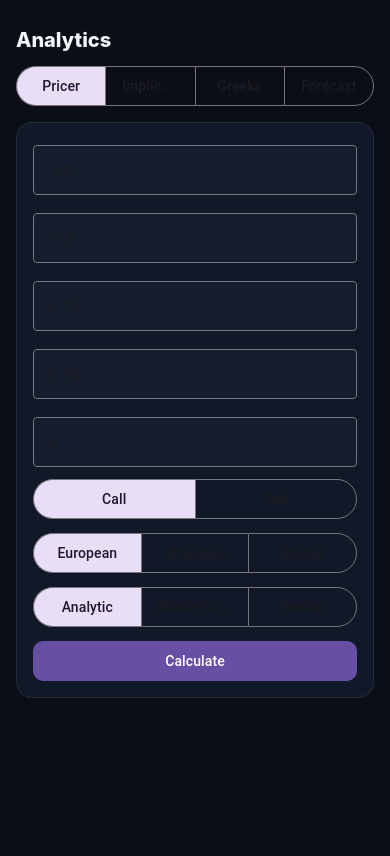
Volatility forecast › carries the forecast volatility into the pricer
Step 1. Click the button "Forecast" → (329, 86), box left=285, top=67, right=373, bottom=105
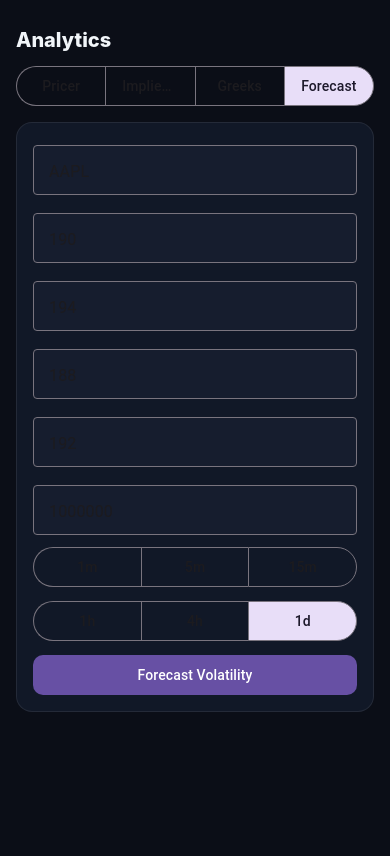
Step 2. Click the button "Forecast Volatility" → (195, 675), box left=33, top=655, right=357, bottom=695
(page scrolled)
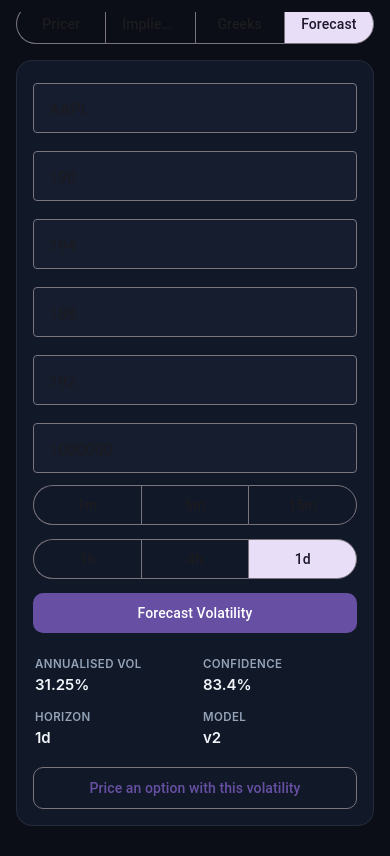
Step 3. Click the button "Price an option with this volatility" → (195, 788), box left=34, top=768, right=356, bottom=808
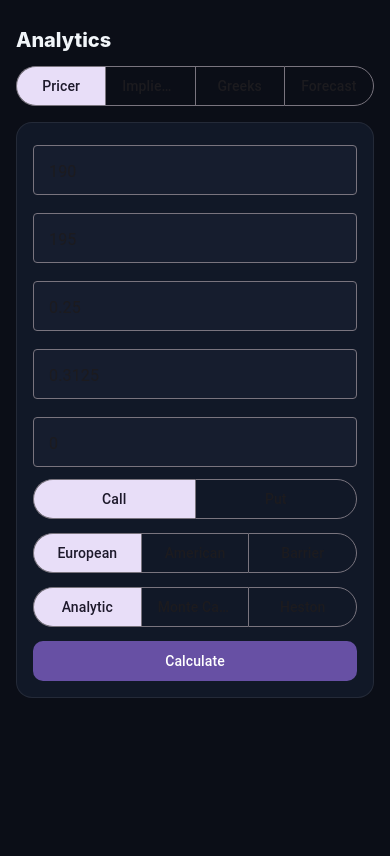
Now the text "Calculate" is shown, box left=165, top=651, right=225, bottom=671
Now the 4th field with test id "text-input-outlined" holds "0.3125", box left=33, top=351, right=357, bottom=399
